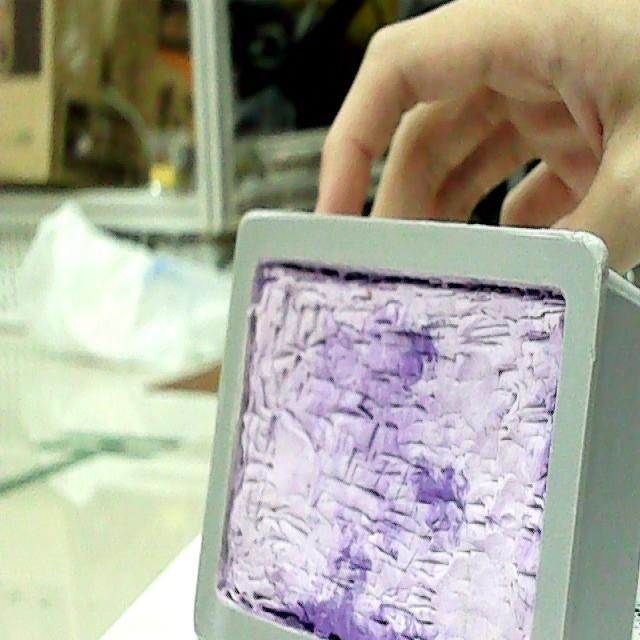block: (183, 209, 636, 640)
